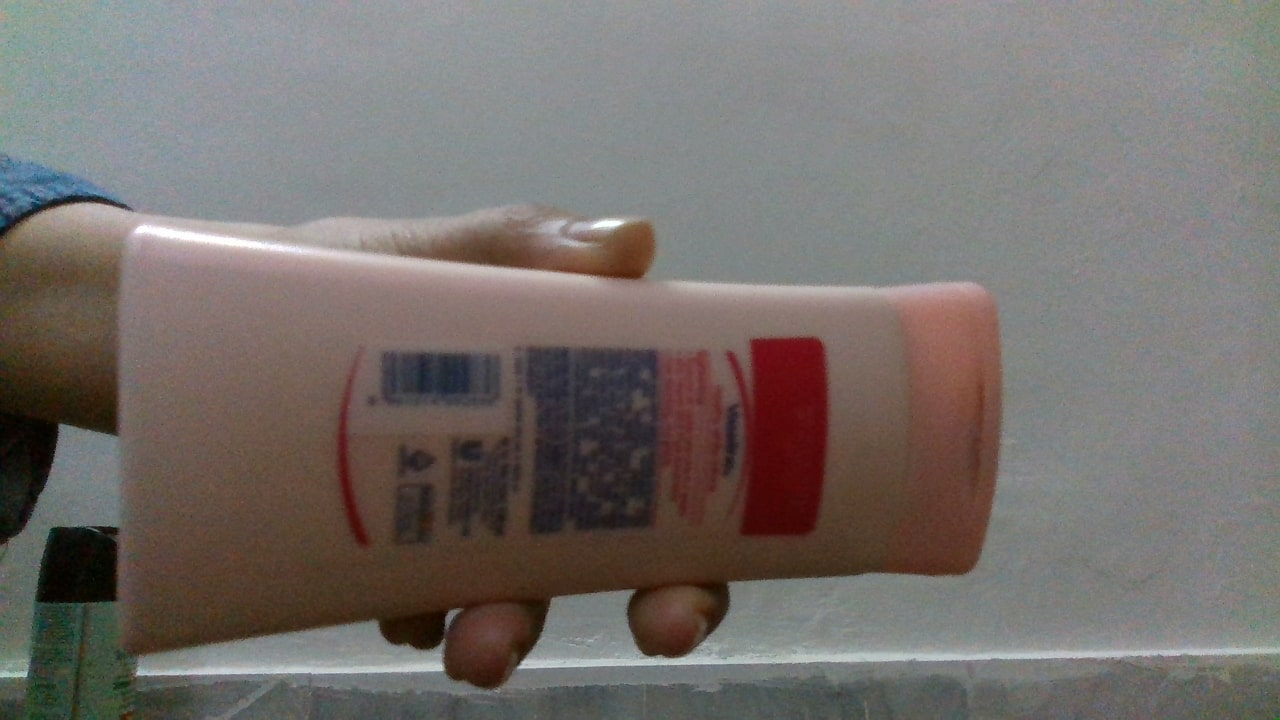Barcode: (379, 349, 504, 411)
